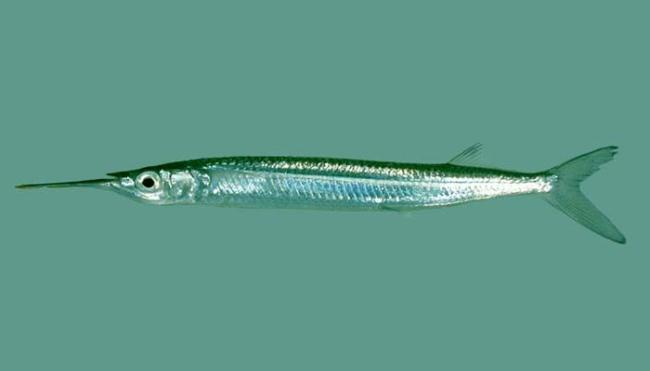fish: (15, 141, 628, 247)
